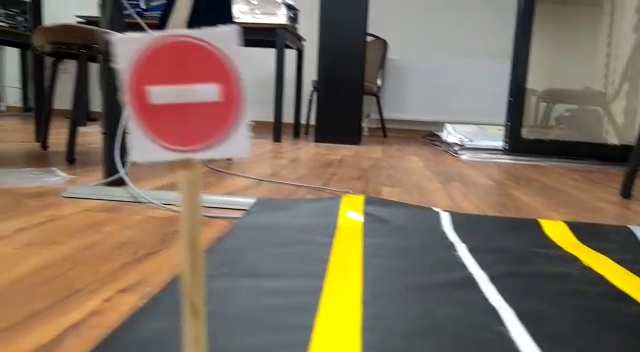girisi_olmayan_yol: (116, 33, 245, 159)
